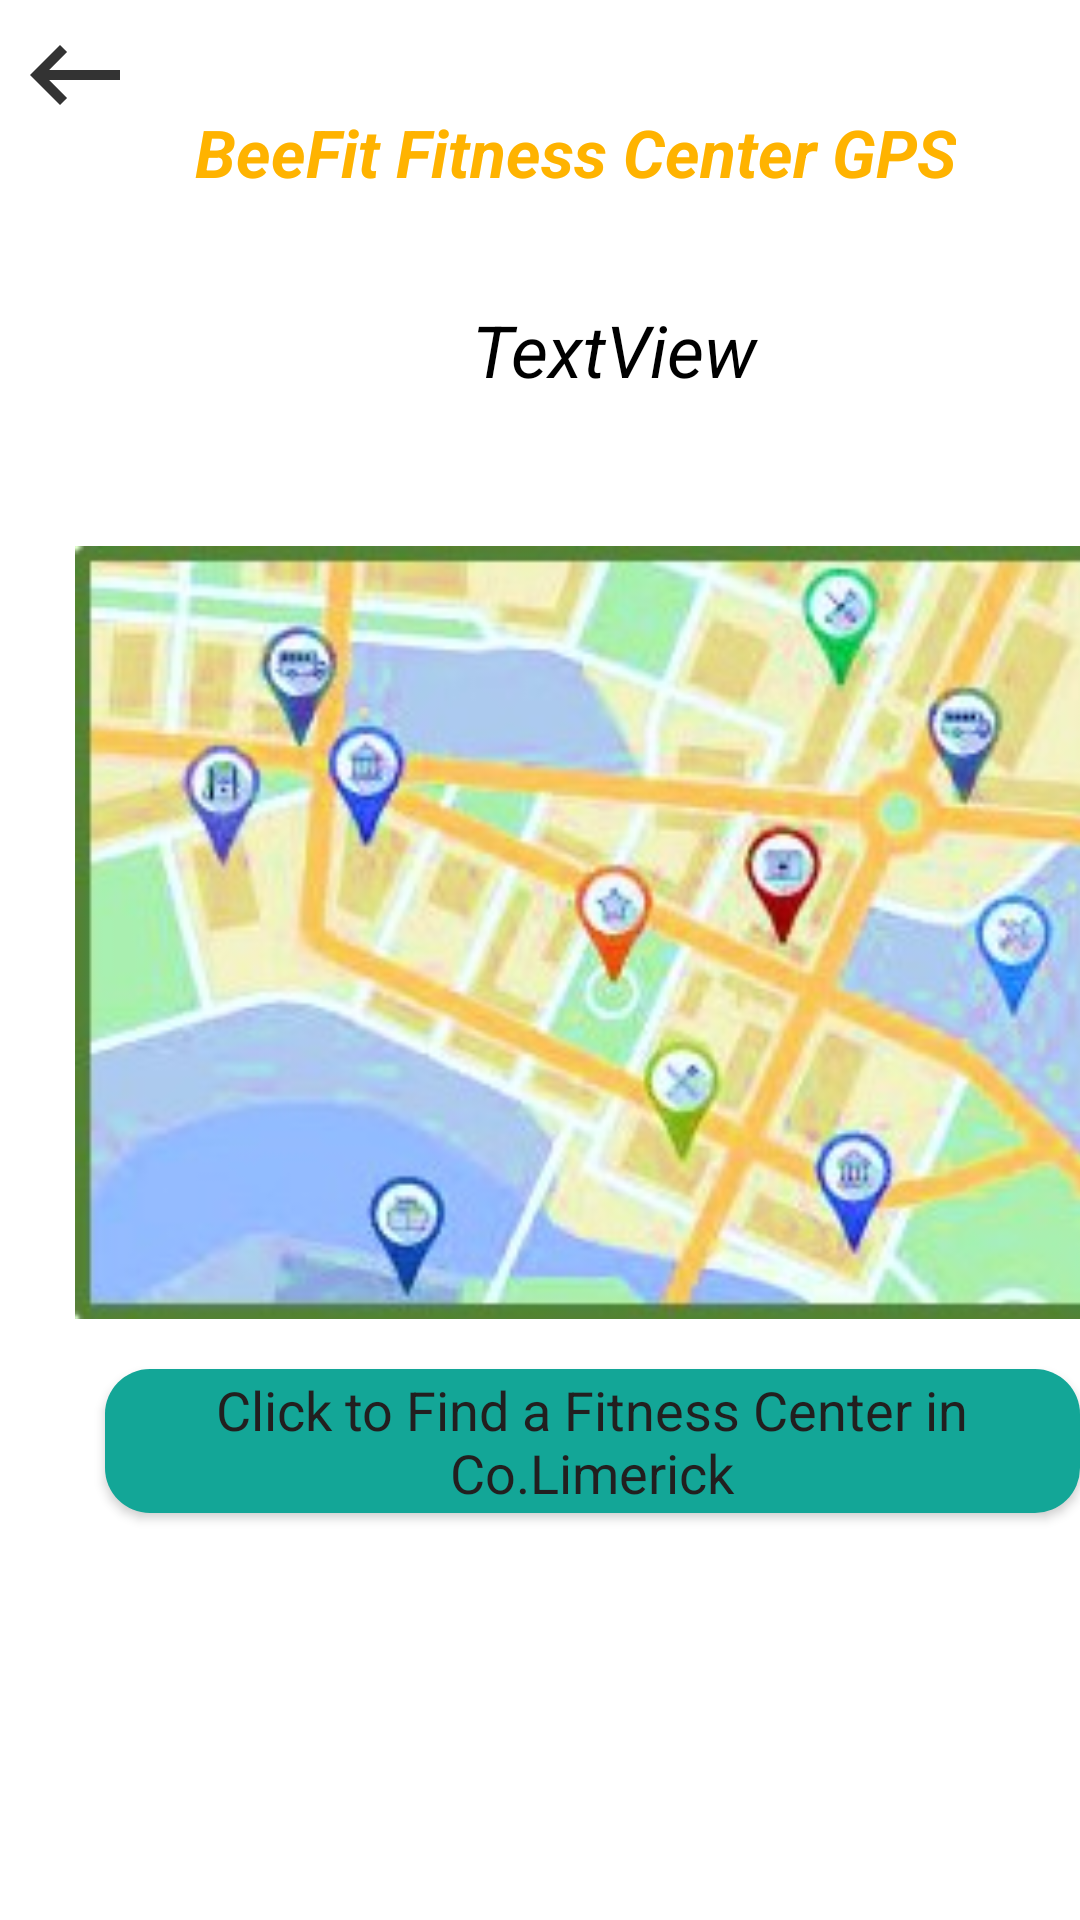

Locate icon controls on the screen. Image size 1080 x 1920, boxes as (x1, y1, x2, y2).
return arrow: (30, 45, 120, 105)
